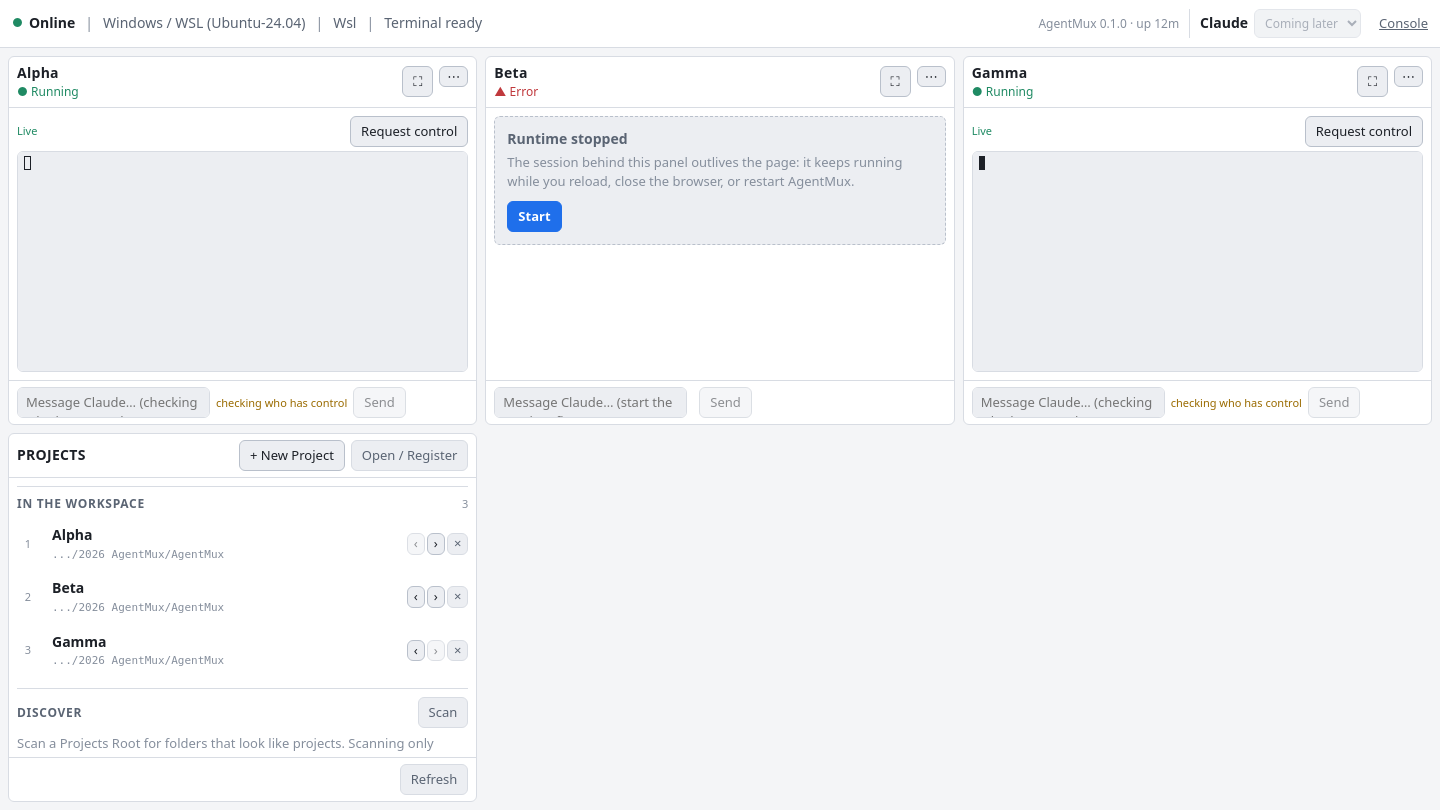
App layout › does not move a project when its runtime state changes
Expected: the heading "Beta" is shown, [494, 63, 528, 82]
Click the button "Start" at point(534, 216), box [507, 201, 562, 232]
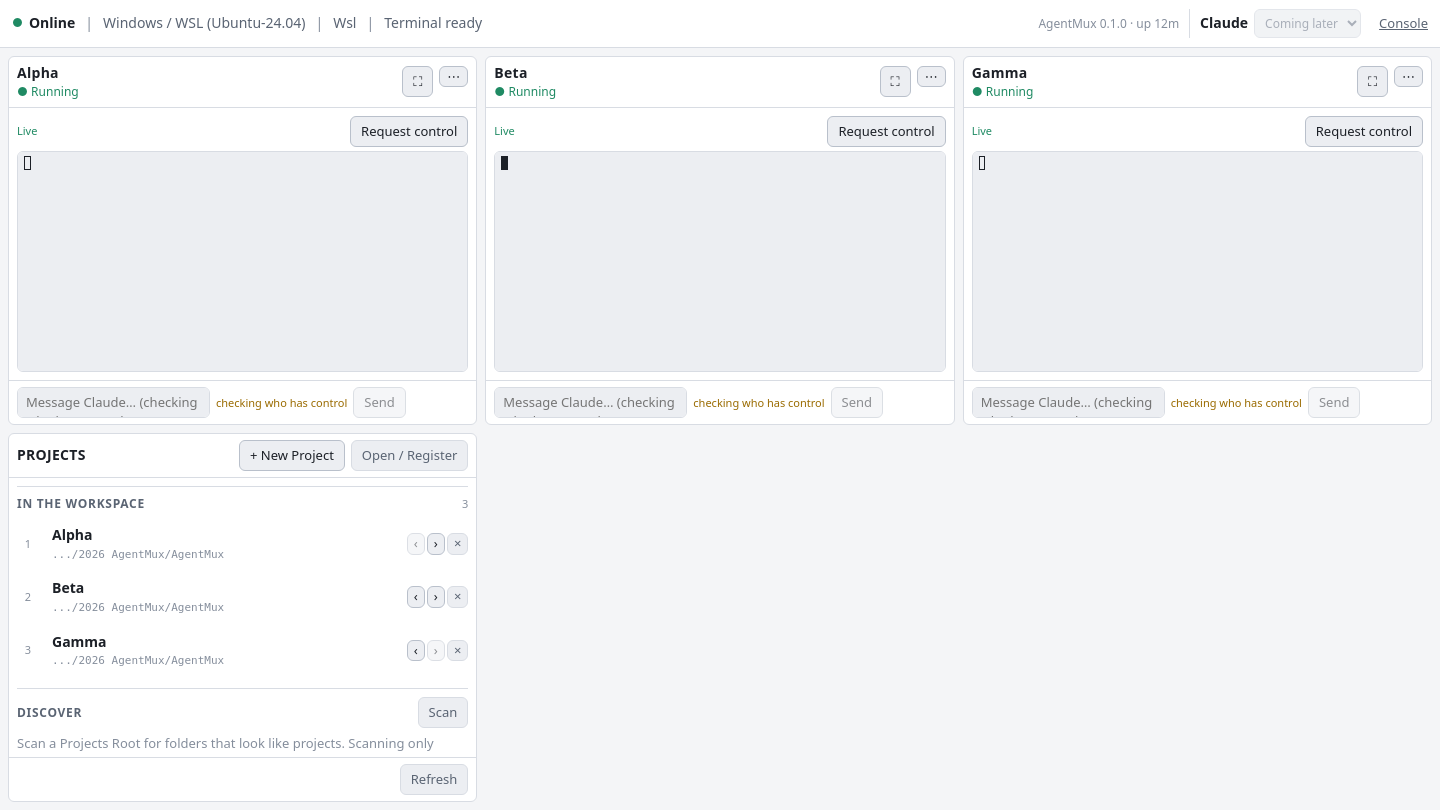
Result: the 2nd text "Running" is shown at [508, 83, 556, 100]
